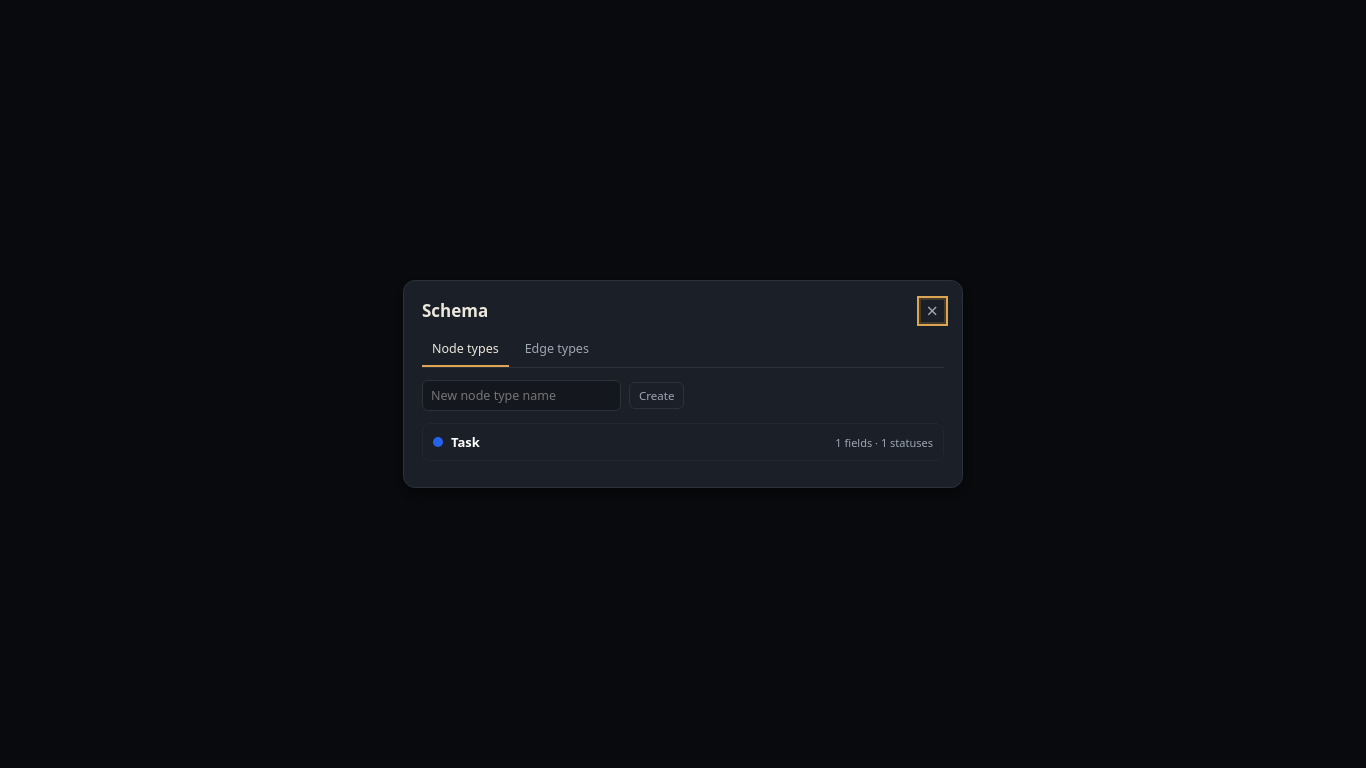
Test: SchemaEditor › expands a node type to show its fields and statuses
Click the text "Task": (465, 442) [451,433,480,451]
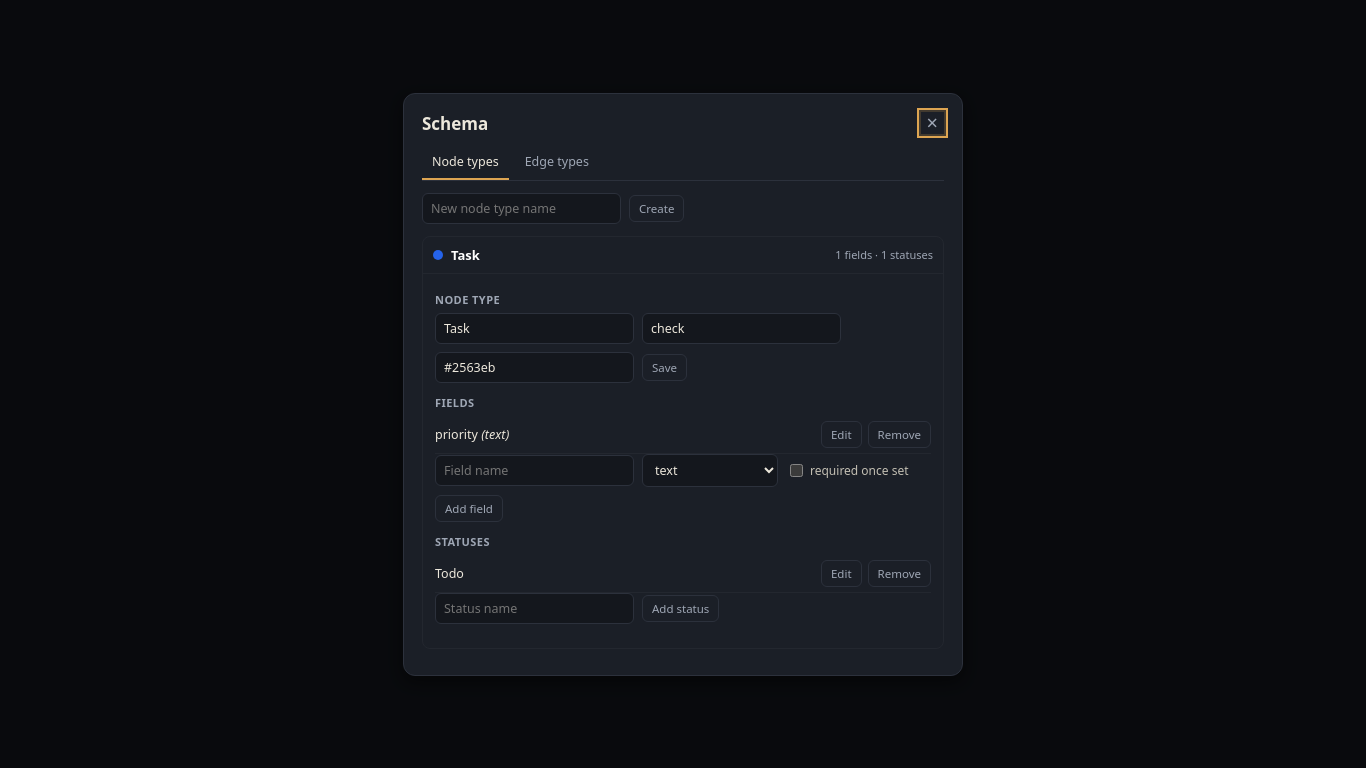
Expected: the text "priority (text)" is shown, [435,426,509,442]
Expected: the text "Todo" is shown, [435,564,464,582]
